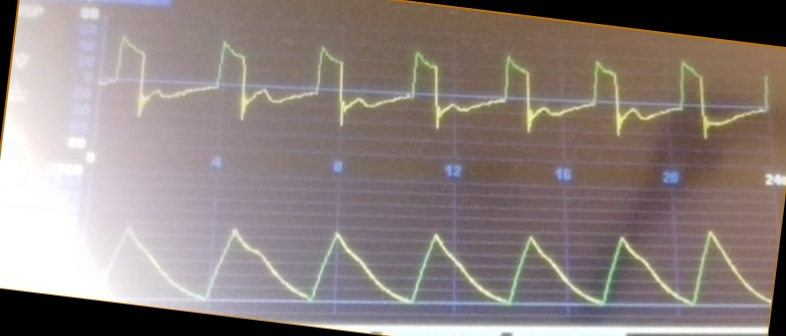Premature_cycling Flow: (106, 33, 769, 141)
Premature_cycling Volume: (102, 219, 770, 311)
